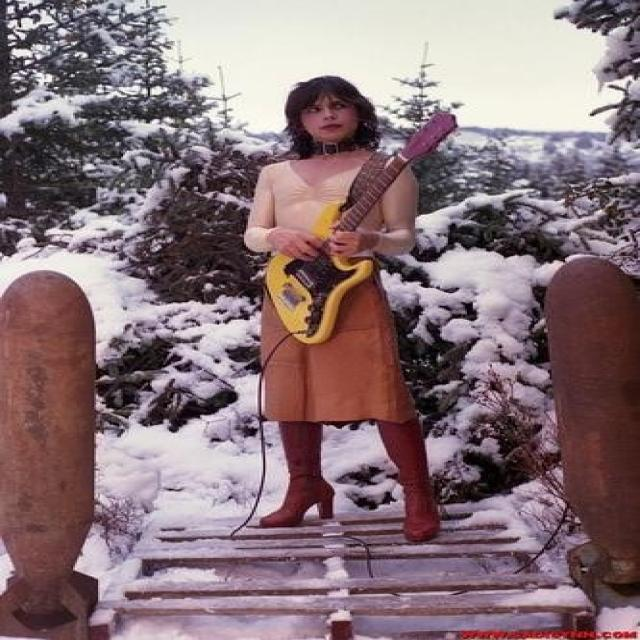guitar: (258, 110, 462, 350)
